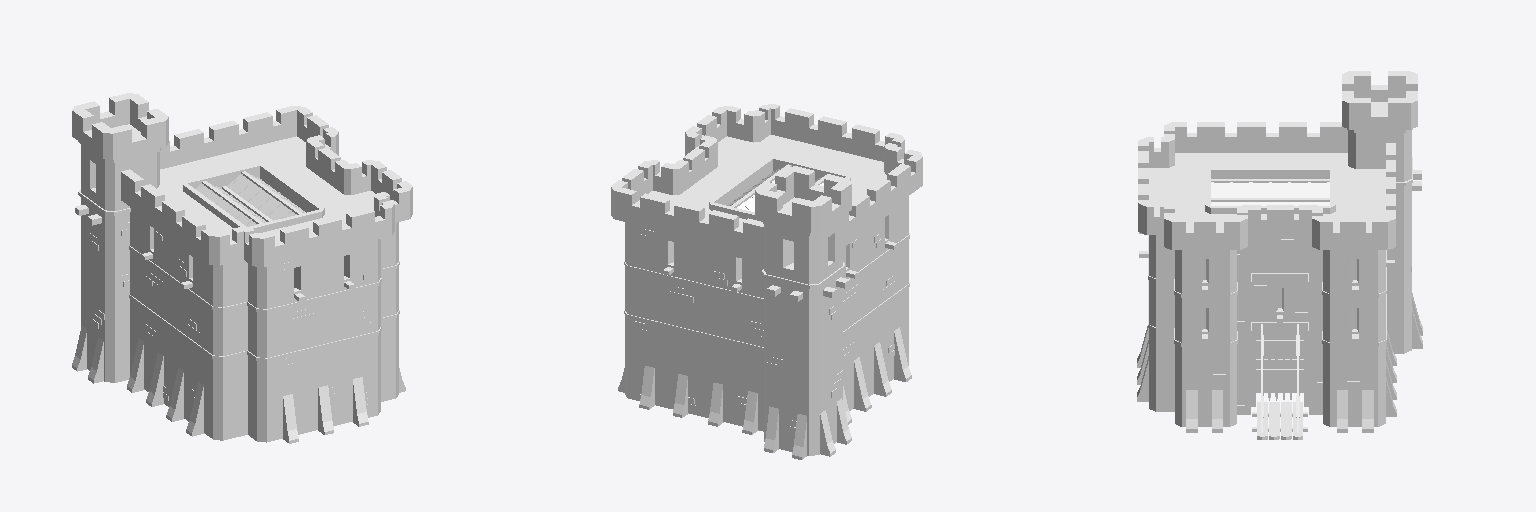
File: castle.obj
The picture shows the model from 3 angles: view 1: azimuth 30°, elevation 25°; view 2: azimuth 150°, elevation 25°; view 3: azimuth 270°, elevation 25°; orthographic projection.
Size of the model in its own units: 4.78 by 4.7 by 4.81.